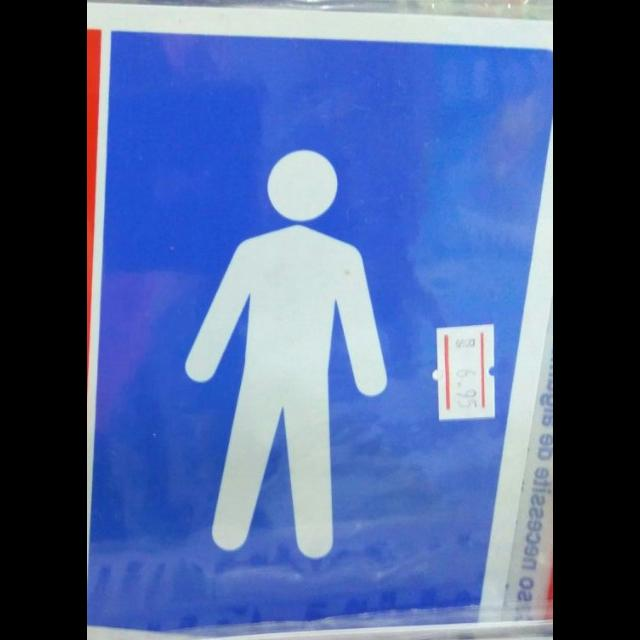mens_restroom: (87, 4, 553, 632)
